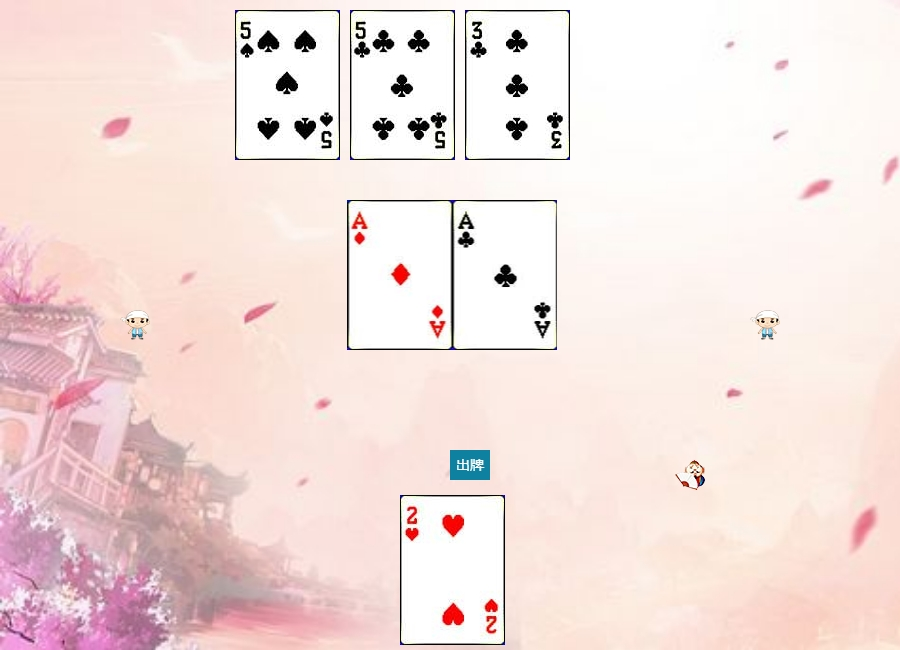14~1: (348, 200, 453, 350)
14~2: (453, 200, 558, 350)
15~3: (400, 495, 505, 645)
3~2: (465, 10, 570, 160)
5~2: (350, 10, 455, 160)
5~4: (235, 10, 340, 160)
